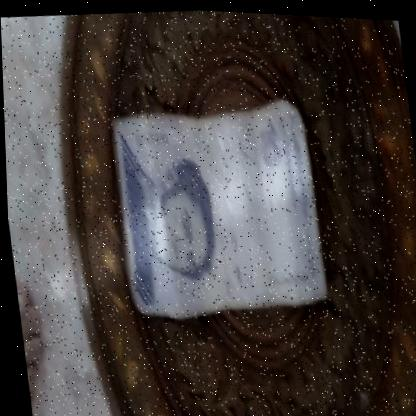ten-front-vef: (107, 88, 328, 327)
